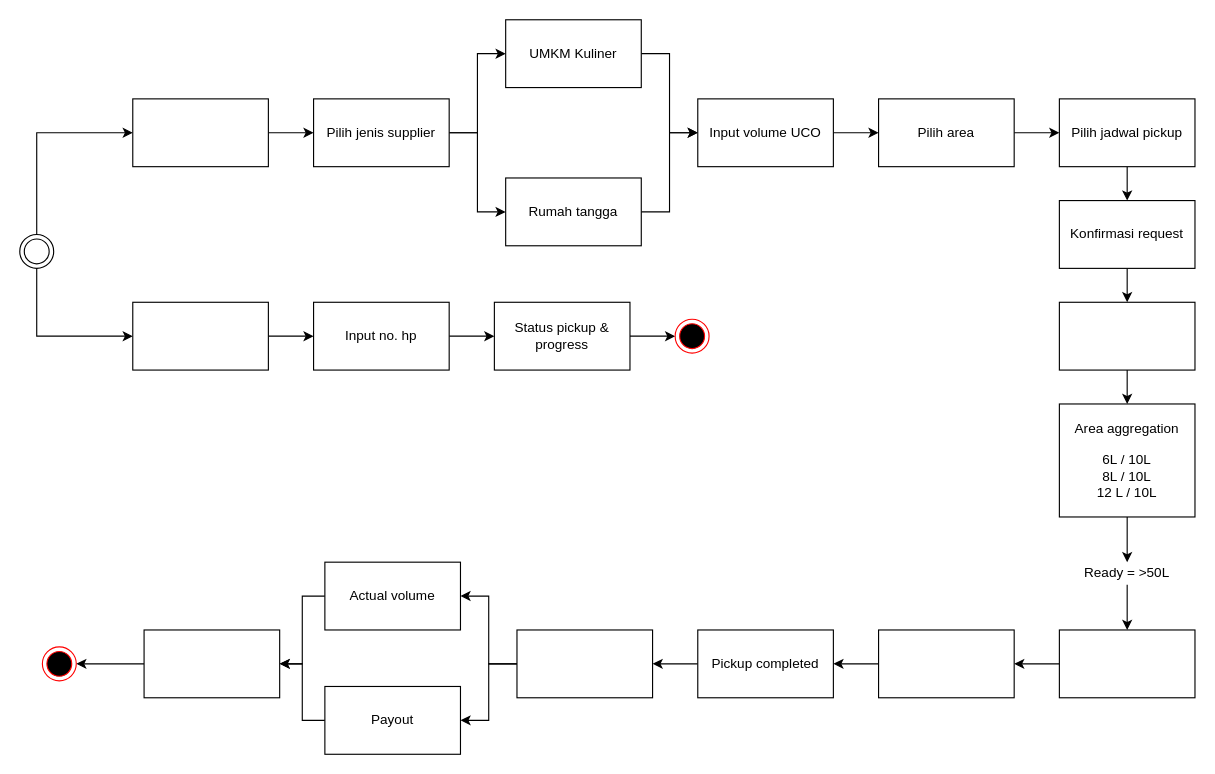
The diagram is 1215 pixels wide and 774 high, and some of its shapes have lost their labels. The shapes that lost their labels are listed below. From the top down, each one's box as (x1, y1, x2, y2) in pixels, then its label:
(132, 98, 268, 167): Mulai pengumpulan
(132, 301, 268, 370): Cek status pickup
(1058, 301, 1195, 370): Request created
(143, 629, 280, 698): Payment / Payout
(516, 629, 653, 698): Weighing
(877, 629, 1014, 698): Pickup in progress
(1058, 629, 1195, 698): Route ready
